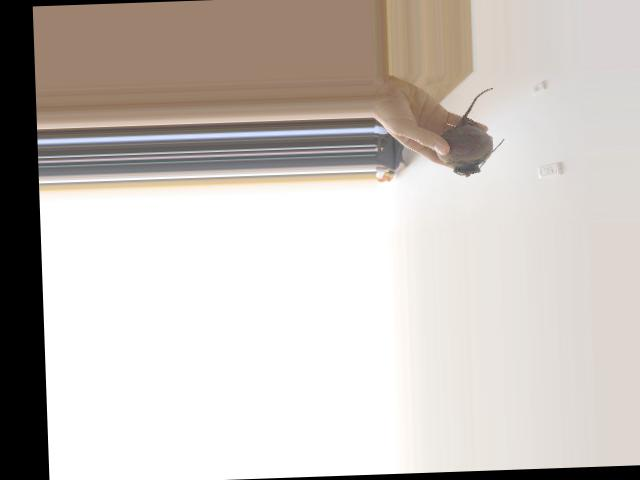beet: (434, 87, 506, 178)
